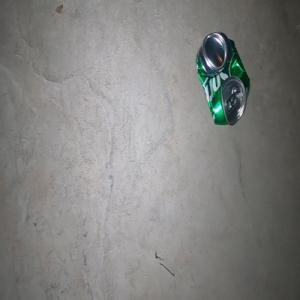SodaCan: (195, 30, 250, 125)
